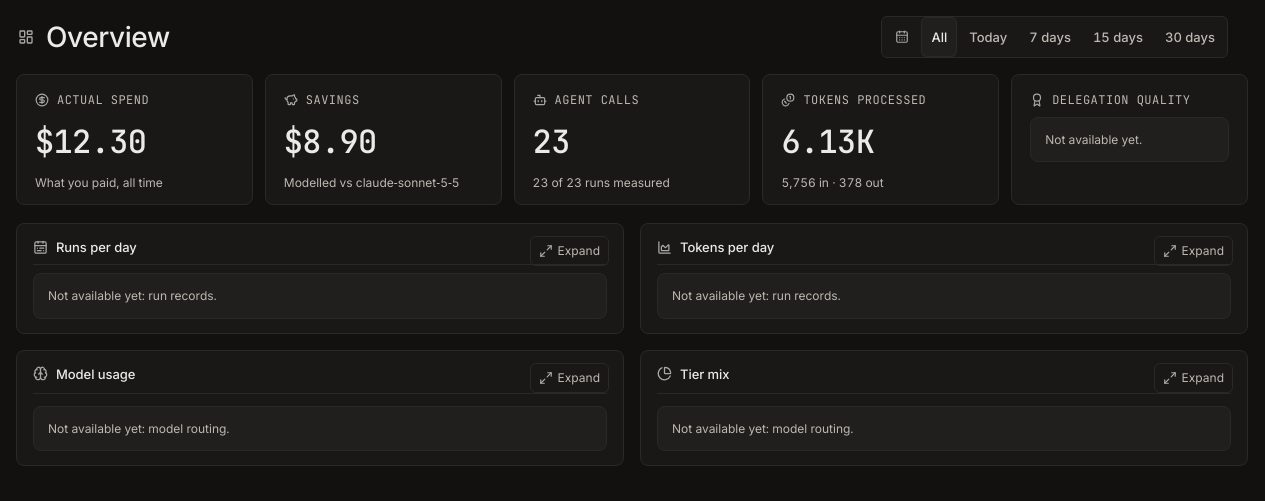
Test: OMN-21015 AC7: the Overview page › Q5: the switch moves the figure and its line together, and all time brings both back
Expected: the text with class "local-dashboard-metric" reads "$8.90", top-left (284, 120), bottom-right (377, 163)
What coordinates should you click on to do the following:
click the radio button with aria-label "Today (UTC)"
I would click on:
 (988, 37)
Its box is top-left (959, 17), bottom-right (1017, 57).
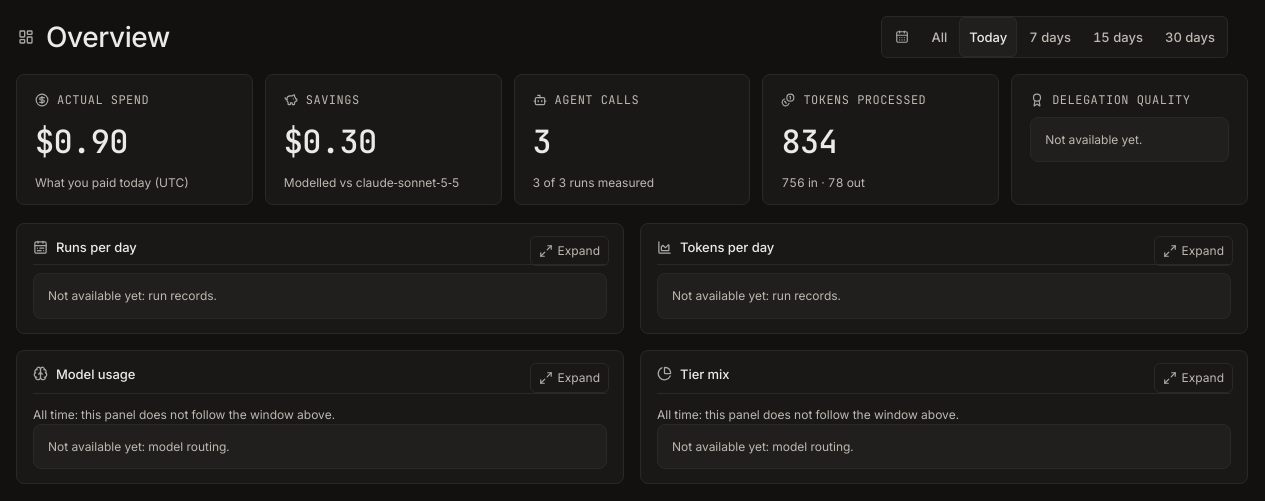
Expected: the text with class "local-dashboard-metric" reads "$0.30", top-left (284, 120), bottom-right (377, 163)
What coordinates should you click on to do the following:
click the radio button with aria-label "All time"
I would click on:
 (939, 37)
Its box is top-left (922, 17), bottom-right (957, 57).
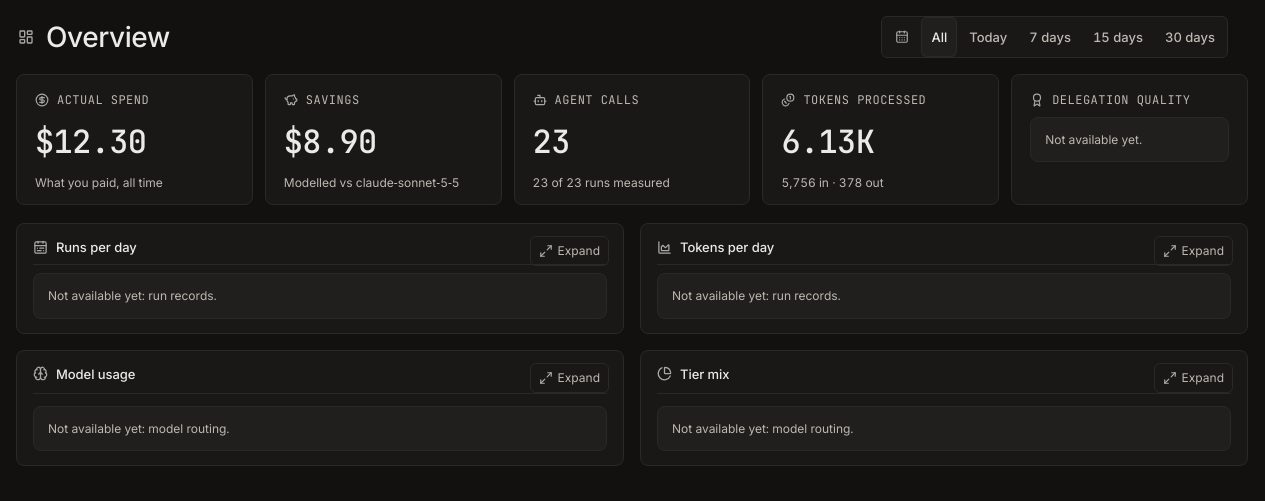
Expected: the text with class "local-dashboard-metric" reads "$8.90", top-left (284, 120), bottom-right (377, 163)
